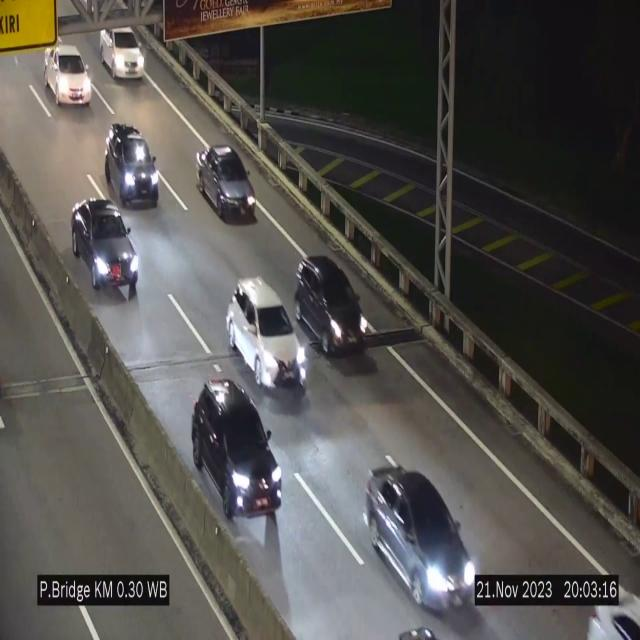Car: (365, 466, 481, 612), (192, 380, 282, 528), (227, 278, 307, 388), (295, 255, 363, 354), (71, 200, 138, 299), (103, 118, 163, 205), (196, 146, 256, 220), (42, 42, 94, 110), (99, 28, 145, 80)
